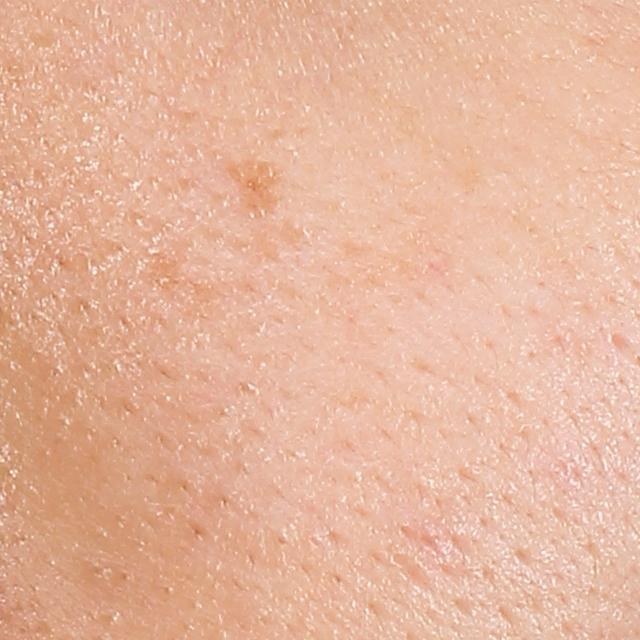comedo: (272, 529, 295, 552)
melasma: (227, 160, 287, 215)
